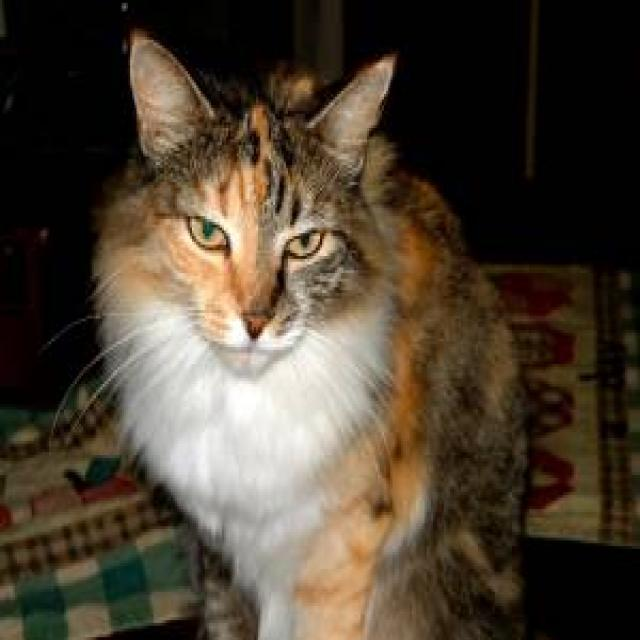Maine_Coon: (111, 25, 401, 385)
